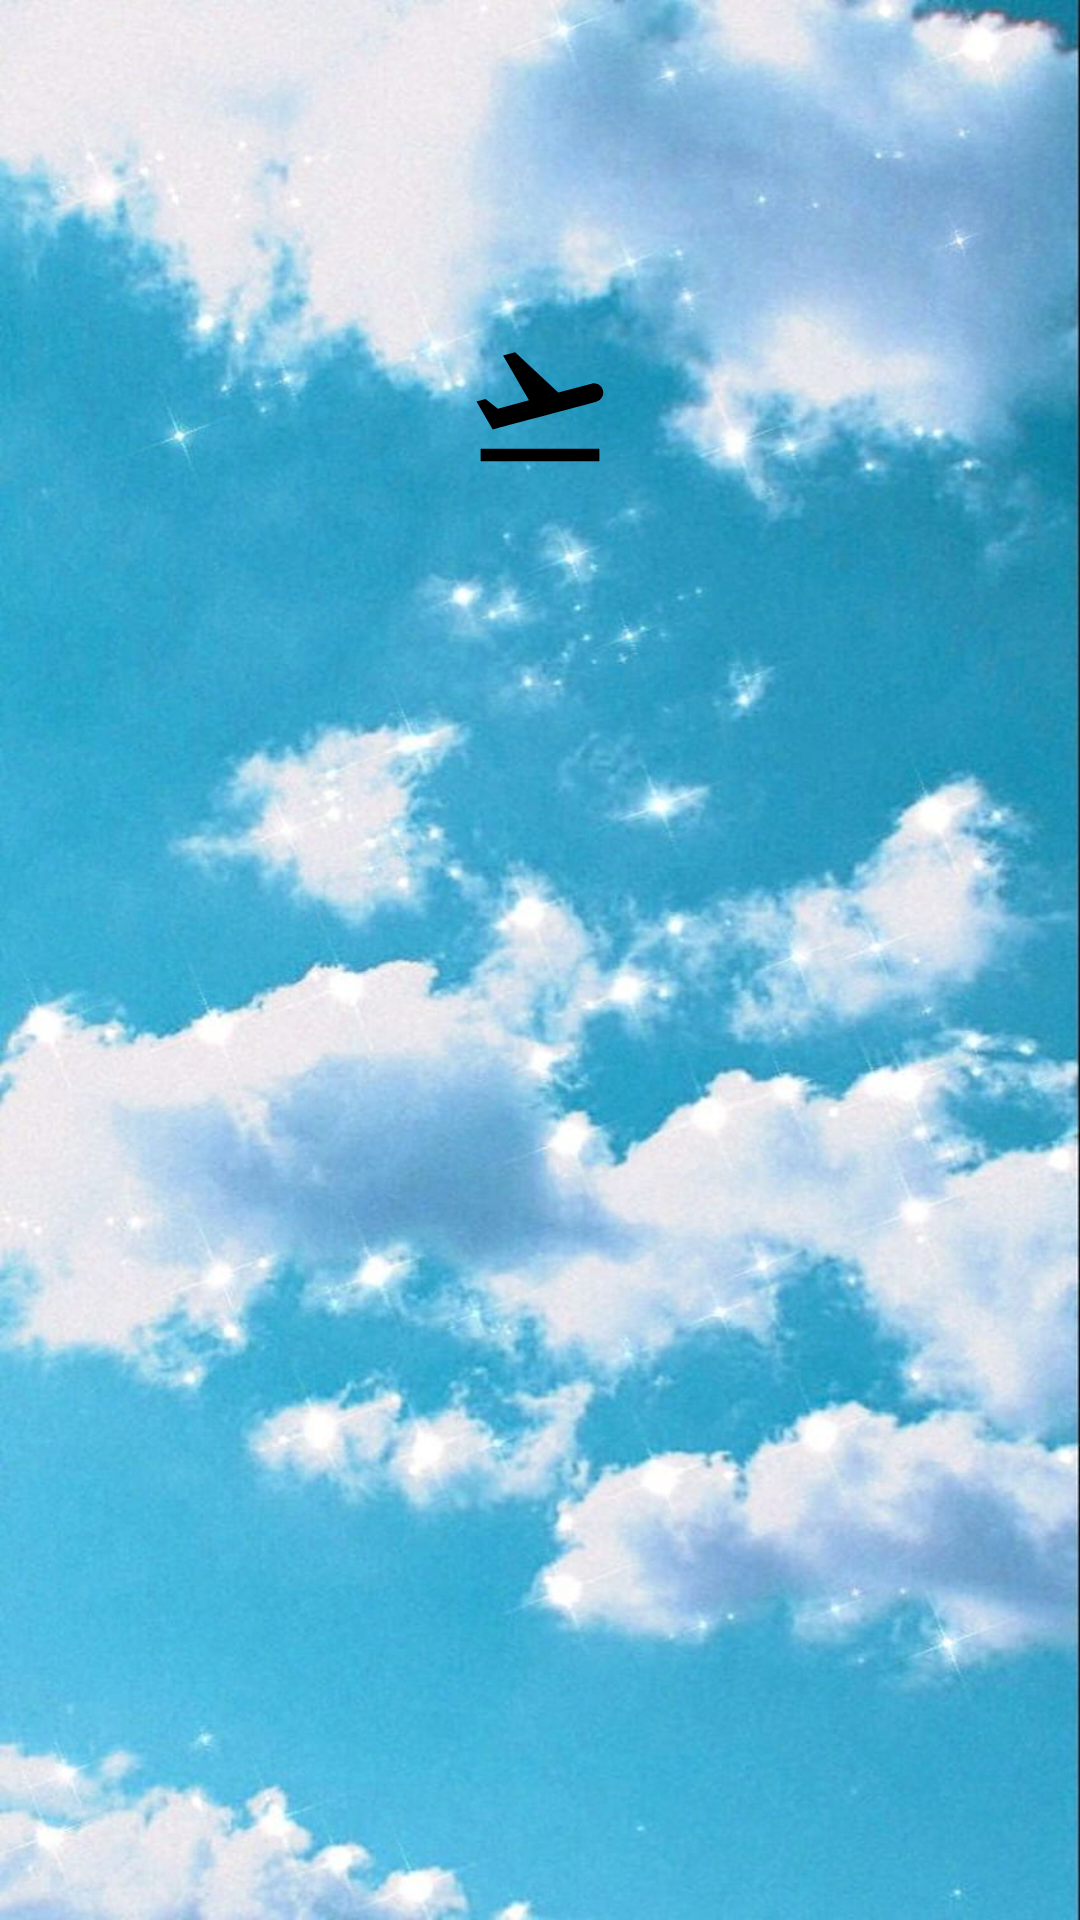

Icons on this 1080x1920 Android screen, each with the point to tap as point (x, y):
destino: point (545, 408)
